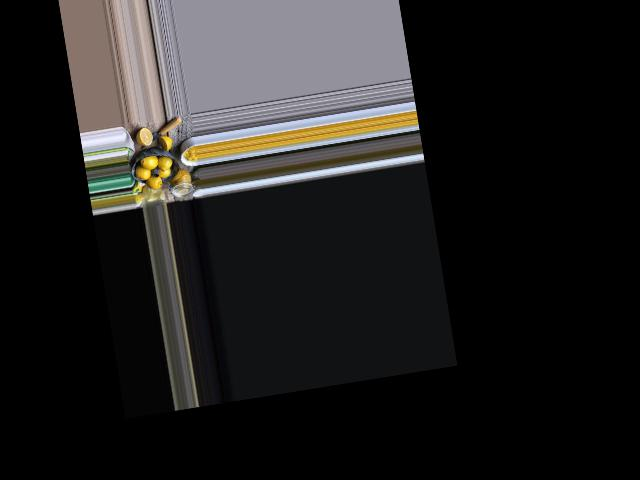lemon: (157, 154, 173, 171)
